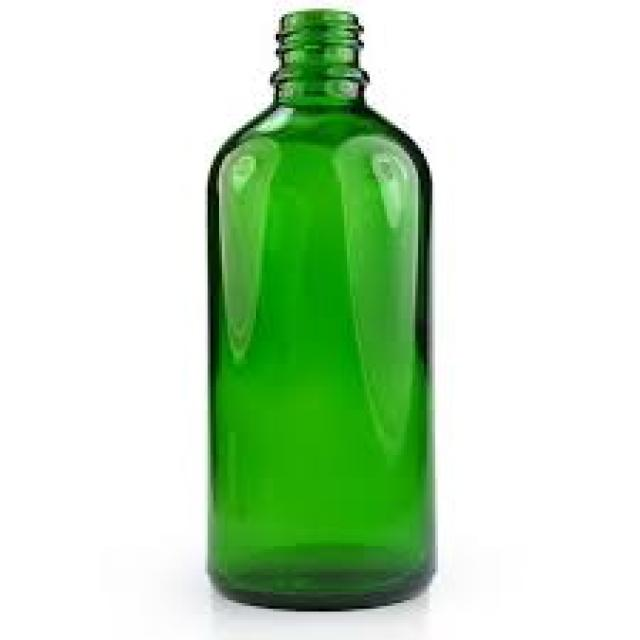glass: (205, 9, 432, 609)
